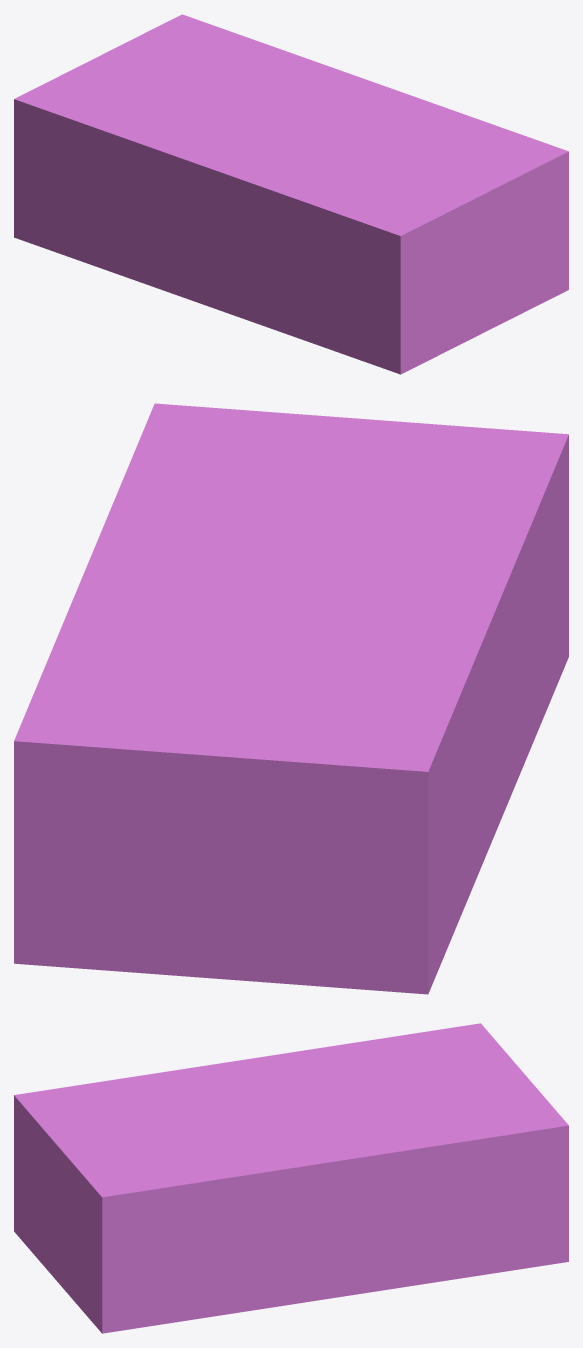
The model's file is shit a brick.fbx.
The picture shows the model from 3 angles, top to bottom: view 1: azimuth 30°, elevation 25°; view 2: azimuth 150°, elevation 25°; view 3: azimuth 270°, elevation 25°; orthographic projection. The views are drawn at different scales.
Parts seen in each view (by area): view 1: Brick; view 2: Brick; view 3: Brick.
Part boxes in pixels (left/top/right/bottom): Brick: left=14, top=14, right=568, bottom=374; Brick: left=14, top=403, right=568, bottom=994; Brick: left=14, top=1023, right=568, bottom=1333.
Bounding box in the file's own units: 74.91 × 27.33 × 101.
